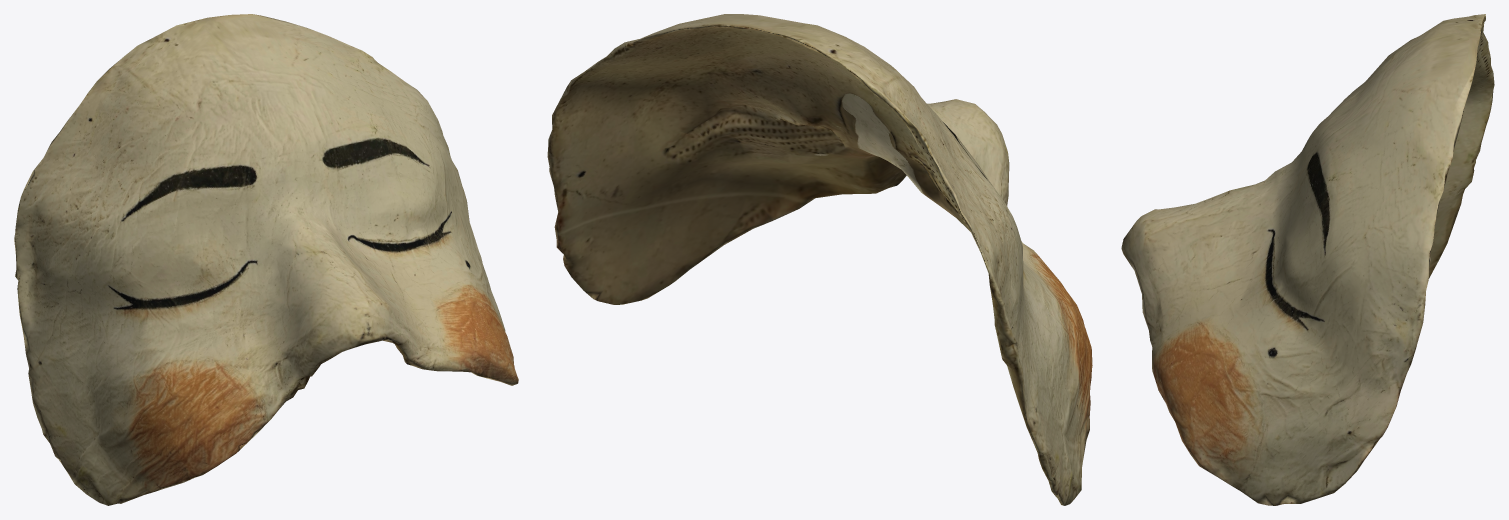
File: mascarateste.glb
3 renders of one model, left to right at view 1: azimuth 30°, elevation 25°; view 2: azimuth 150°, elevation 25°; view 3: azimuth 270°, elevation 25°, orthographic. The views are drawn at different scales.
Parts seen in each view (by area): view 1: Low poly.001; view 2: Low poly.001; view 3: Low poly.001.
Part boxes in pixels (x1,y1,x2,y2): Low poly.001: (14, 14, 518, 505); Low poly.001: (547, 14, 1092, 505); Low poly.001: (1121, 14, 1494, 505).
Bounding box in the file's own units: 0.7414 × 0.6512 × 0.5241.
1 material, 1 textured.
